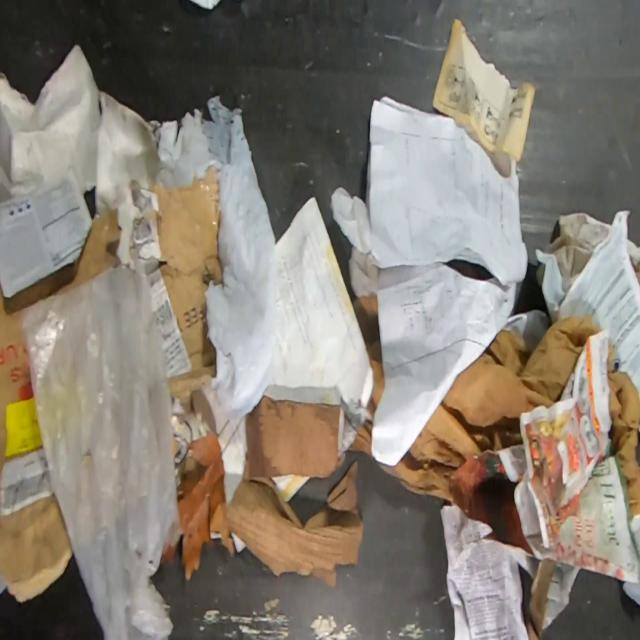cardboard: (0, 207, 120, 486), (210, 463, 363, 591), (147, 164, 222, 416), (243, 396, 344, 482), (0, 493, 72, 602)
soft_plastic: (24, 260, 180, 639), (148, 94, 282, 420)
